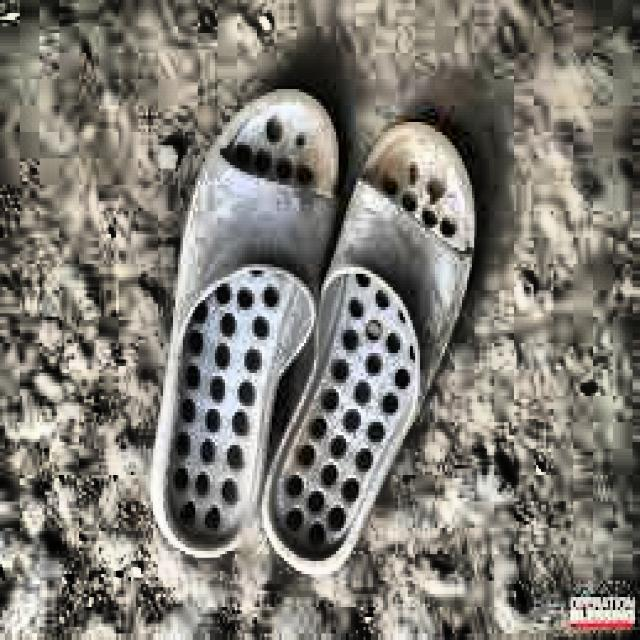shoes: (148, 86, 481, 577)
